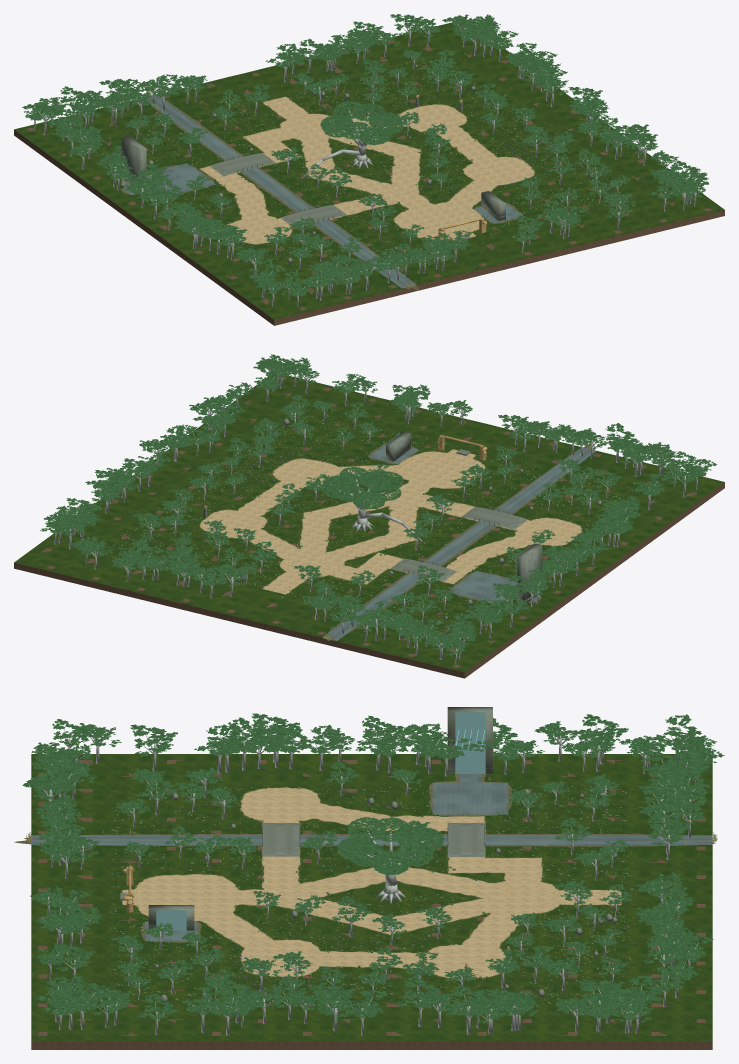
The model's file is himmapan-edge.glb.
3 views of the same model, one above another, from view 1: azimuth 30°, elevation 25°; view 2: azimuth 150°, elevation 25°; view 3: azimuth 270°, elevation 25° (orthographic). The views are drawn at different scales.
Visible parts, largest first — view 1: Ground - varied meadow | ground_himmapan_edge, Tracks - worn earth | path, Soil foundation | earth, Feathered road shoulders | path_edge, Water surface 00 | water, Fine leafy canopy twigs | leaf, Waterfall rock face | stone, Damp canal edges | mud, Organic understory shrubs | leaf4, Bridge continuous deck | stone, Fine leafy canopy twigs | leafLight, Organic understory shrubs | leaf (+2 smaller); view 2: Ground - varied meadow | ground_himmapan_edge, Tracks - worn earth | path, Soil foundation | earth, Feathered road shoulders | path_edge, Water surface 00 | water, Fine leafy canopy twigs | leaf, Waterfall rock face | stone, Damp canal edges | mud, Organic understory shrubs | leaf2, Water surface 01 | water, Bridge continuous deck | stone, Organic understory shrubs | leaf4 (+2 smaller); view 3: Ground - varied meadow | ground_himmapan_edge, Tracks - worn earth | path, Soil foundation | earth, Feathered road shoulders | path_edge, Water surface 00 | water, Fine leafy canopy twigs | leaf, Water surface 01 | water, Waterfall curtain | waterfall, Damp canal edges | mud, Bridge continuous deck | stone, Waterfall rock face | stone, Organic understory shrubs | leaf (+4 smaller).
Part boxes in pixels (<box>): Ground - varied meadow | ground_himmapan_edge: <box>14,22,724,319</box>; Tracks - worn earth | path: <box>202,97,531,242</box>; Soil foundation | earth: <box>14,29,724,325</box>; Feathered road shoulders | path_edge: <box>199,96,534,244</box>; Water surface 00 | water: <box>145,94,416,288</box>; Fine leafy canopy twigs | leaf: <box>323,101,403,139</box>; Waterfall rock face | stone: <box>121,136,505,220</box>; Damp canal edges | mud: <box>120,95,523,290</box>; Organic understory shrubs | leaf4: <box>109,63,632,273</box>; Bridge continuous deck | stone: <box>216,154,340,223</box>; Fine leafy canopy twigs | leafLight: <box>320,112,400,145</box>; Organic understory shrubs | leaf: <box>110,53,633,270</box>; Ground - varied meadow | ground_himmapan_edge: <box>14,376,724,672</box>; Tracks - worn earth | path: <box>202,450,579,593</box>; Soil foundation | earth: <box>14,377,724,678</box>; Feathered road shoulders | path_edge: <box>199,449,581,594</box>; Water surface 00 | water: <box>322,447,596,640</box>; Fine leafy canopy twigs | leaf: <box>321,466,403,501</box>; Waterfall rock face | stone: <box>386,431,542,604</box>; Damp canal edges | mud: <box>323,442,594,639</box>; Organic understory shrubs | leaf2: <box>99,410,618,631</box>; Water surface 01 | water: <box>448,571,517,602</box>; Bridge continuous deck | stone: <box>396,507,520,579</box>; Organic understory shrubs | leaf4: <box>112,408,639,632</box>; Ground - varied meadow | ground_himmapan_edge: <box>31,754,712,1041</box>; Tracks - worn earth | path: <box>122,789,621,976</box>; Soil foundation | earth: <box>31,760,712,1049</box>; Feathered road shoulders | path_edge: <box>122,787,621,978</box>; Water surface 00 | water: <box>31,835,712,844</box>; Fine leafy canopy twigs | leaf: <box>347,817,444,866</box>; Water surface 01 | water: <box>432,782,508,814</box>; Waterfall curtain | waterfall: <box>156,712,485,930</box>; Damp canal edges | mud: <box>14,774,715,942</box>; Bridge continuous deck | stone: <box>262,826,485,851</box>; Waterfall rock face | stone: <box>148,707,492,930</box>; Organic understory shrubs | leaf: <box>110,786,632,1007</box>.
Bounding box in the file's own units: 184 × 21.65 × 188.
Materials: 27 (21 with a texture image).
